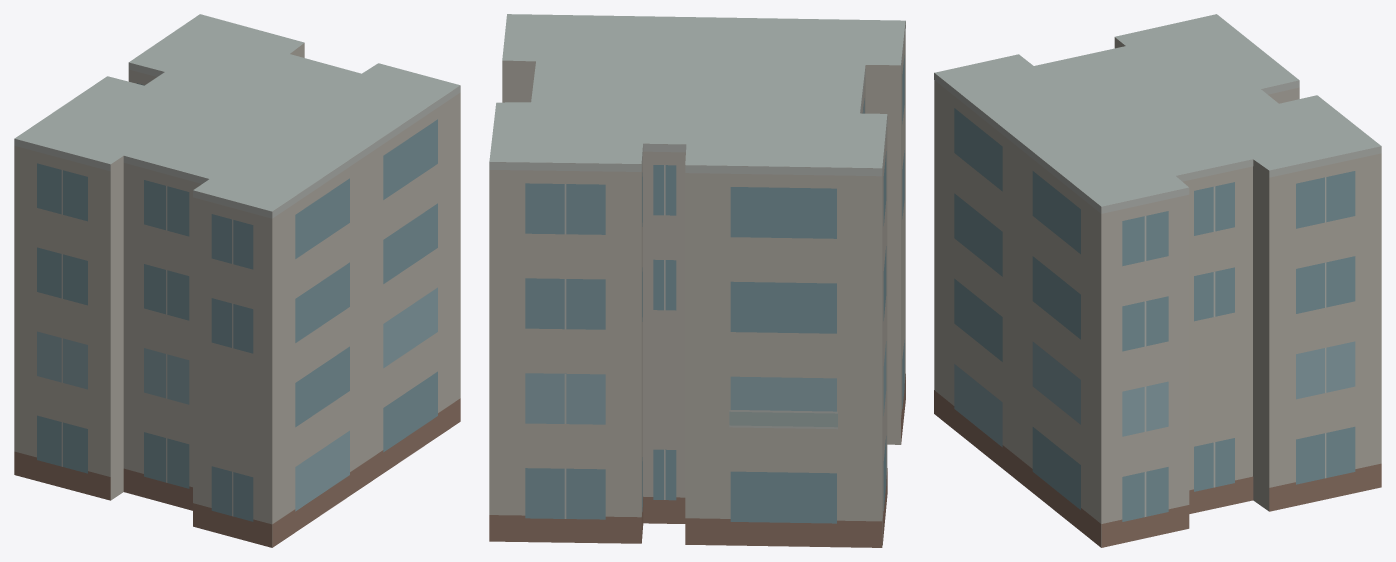
File: survey-upis-32698373.glb
The picture shows the model from 3 angles, left to right: view 1: azimuth 30°, elevation 25°; view 2: azimuth 150°, elevation 25°; view 3: azimuth 270°, elevation 25°; orthographic projection. The views are drawn at different scales.
Parts seen in each view (by area): view 1: survey-upis-32698373.tmp; view 2: survey-upis-32698373.tmp; view 3: survey-upis-32698373.tmp.
Part boxes in pixels (<box>): survey-upis-32698373.tmp: <box>14,14,460,547</box>; survey-upis-32698373.tmp: <box>489,14,905,547</box>; survey-upis-32698373.tmp: <box>934,14,1381,547</box>.
Bounding box in the file's own units: 14.07 × 11.6 × 13.8.
